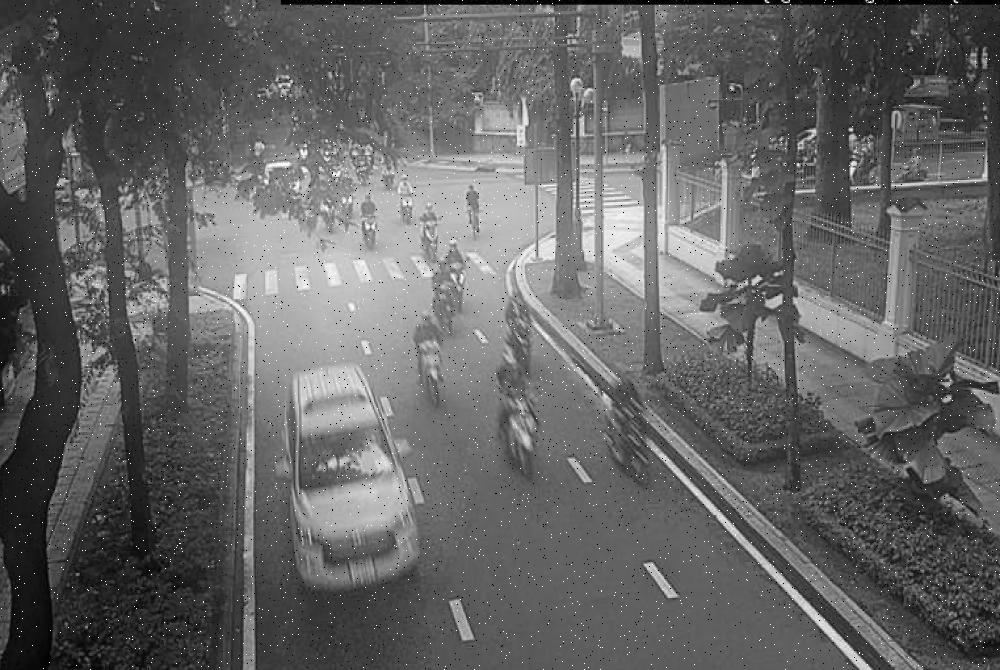car: (272, 339, 416, 641)
